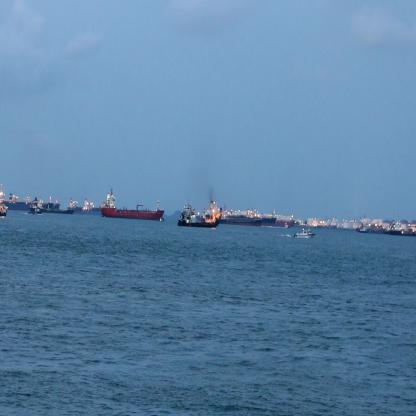Container Ship: (100, 192, 171, 218), (7, 192, 63, 209), (220, 208, 267, 225), (33, 201, 81, 216), (72, 194, 108, 213), (0, 184, 14, 216), (354, 224, 400, 233), (278, 212, 300, 228), (267, 207, 282, 227)
